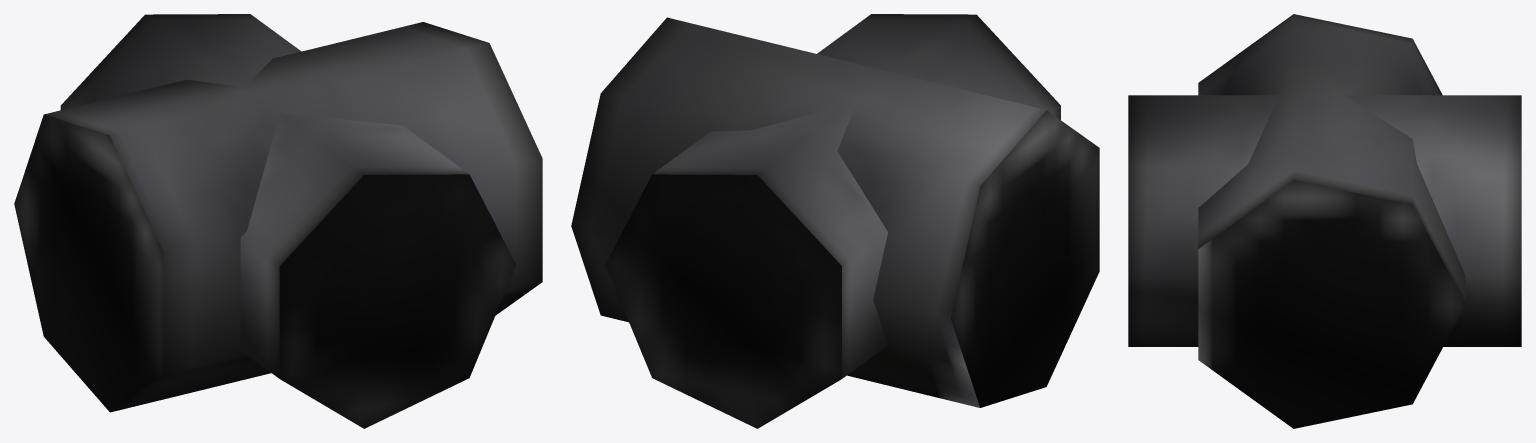
Rendered from r_talus.dae.
3 views of the same model, side by side, from view 1: azimuth 30°, elevation 25°; view 2: azimuth 150°, elevation 25°; view 3: azimuth 270°, elevation 25° (orthographic). The views are drawn at different scales.
Visible parts, largest first — view 1: r_talus; view 2: r_talus; view 3: r_talus.
Boxes of the visible parts, box(x1,y1,x2,y2) form: r_talus: box(14, 14, 542, 428); r_talus: box(571, 14, 1099, 428); r_talus: box(1128, 14, 1521, 428).
Size of the model in its own units: 0.0327 by 0.0327 by 0.0228.
1 material, 1 textured.
